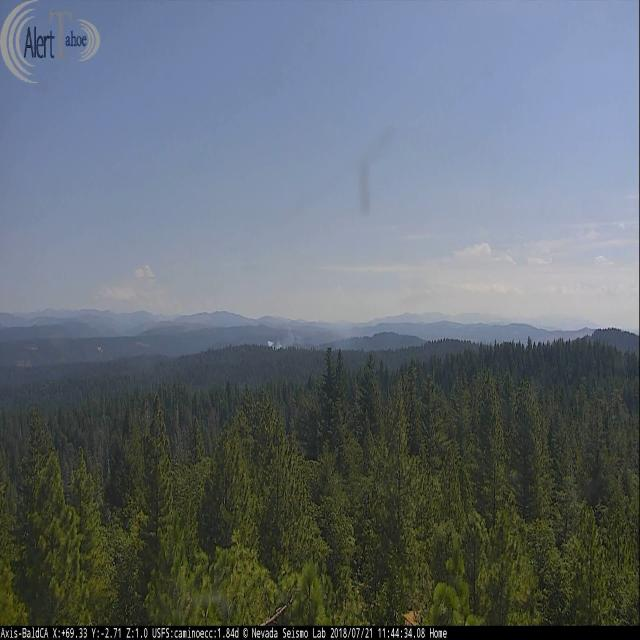smoke: (266, 326, 296, 352)
